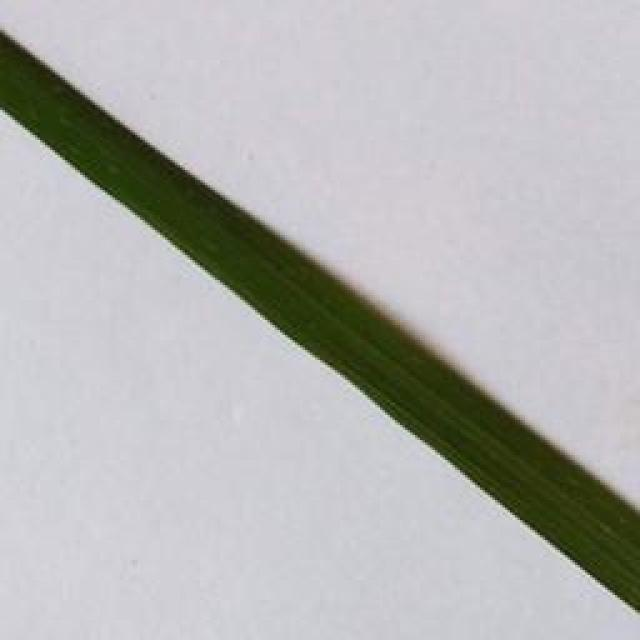Healthy: (0, 32, 640, 618)
